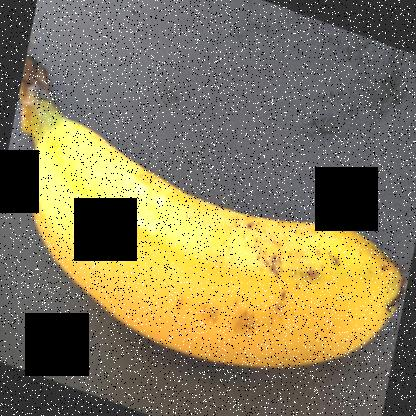ripe: (24, 68, 402, 374)
